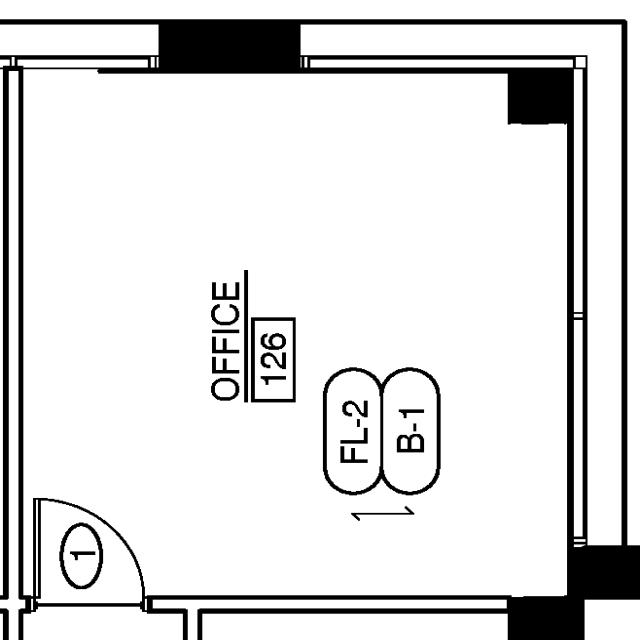Doors: (28, 494, 156, 614)
